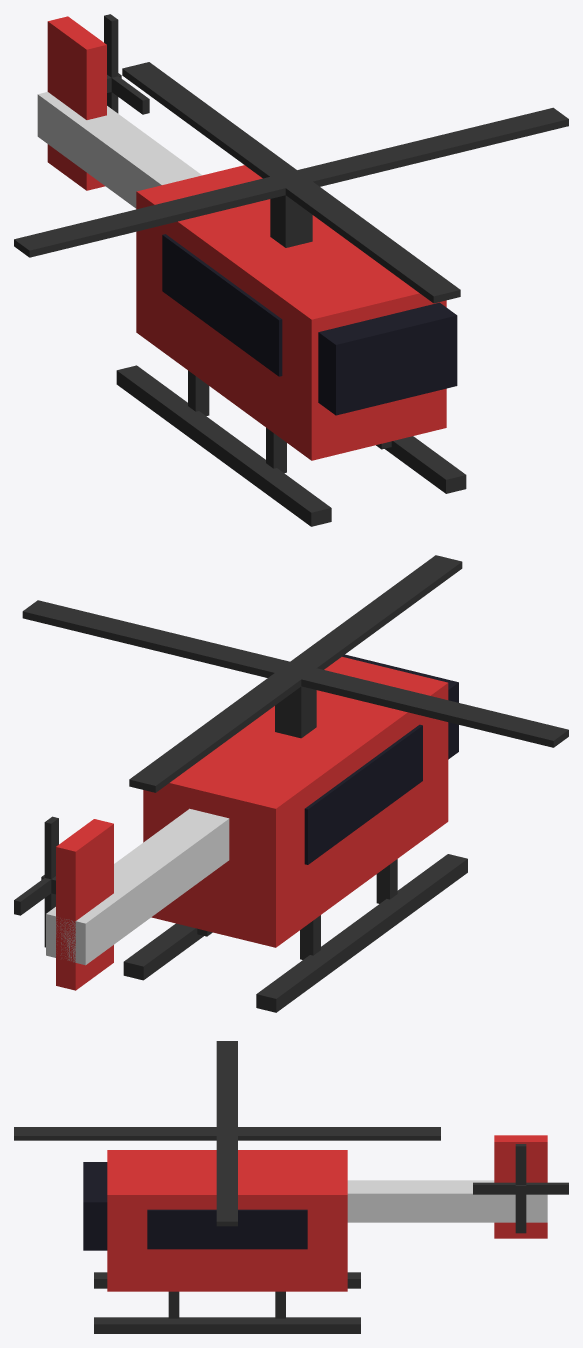
Rendered from helicopter.obj.
3 renders of one model, top to bottom at view 1: azimuth 30°, elevation 25°; view 2: azimuth 150°, elevation 25°; view 3: azimuth 270°, elevation 25°, orthographic. The views are drawn at different scales.
Bounding box in the file's own units: 8 × 3.65 × 10.4.
